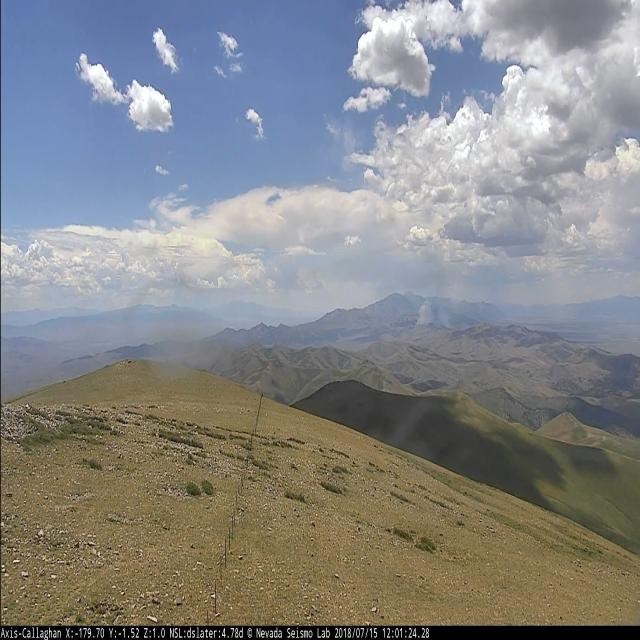smoke: (416, 292, 450, 333)
